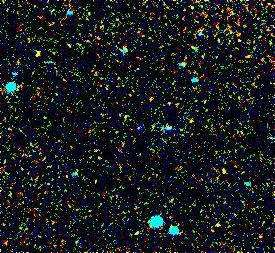star: (24, 36, 54, 66)
